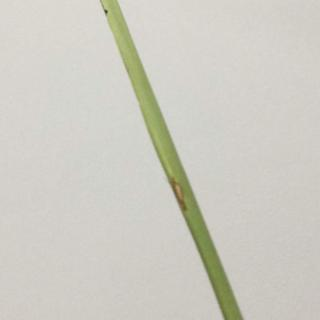Blast: (165, 157, 207, 233)
